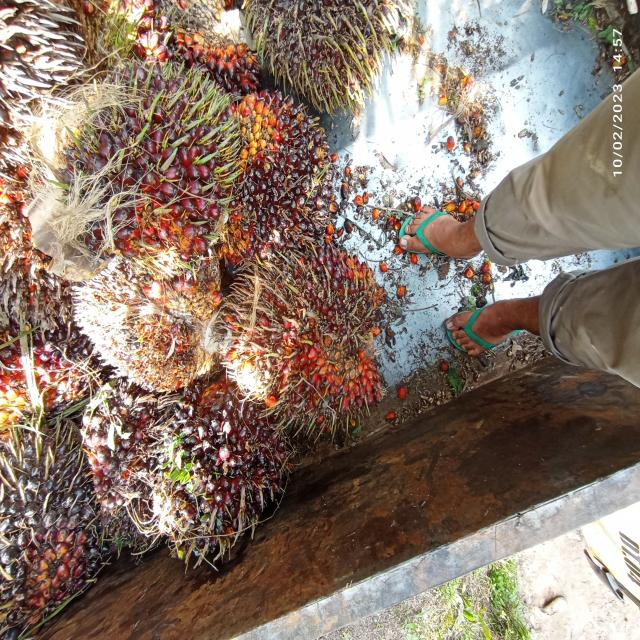fraksi 1: (34, 39, 242, 296), (80, 362, 316, 576), (220, 75, 348, 245)
fraksi 3: (217, 239, 389, 446)
